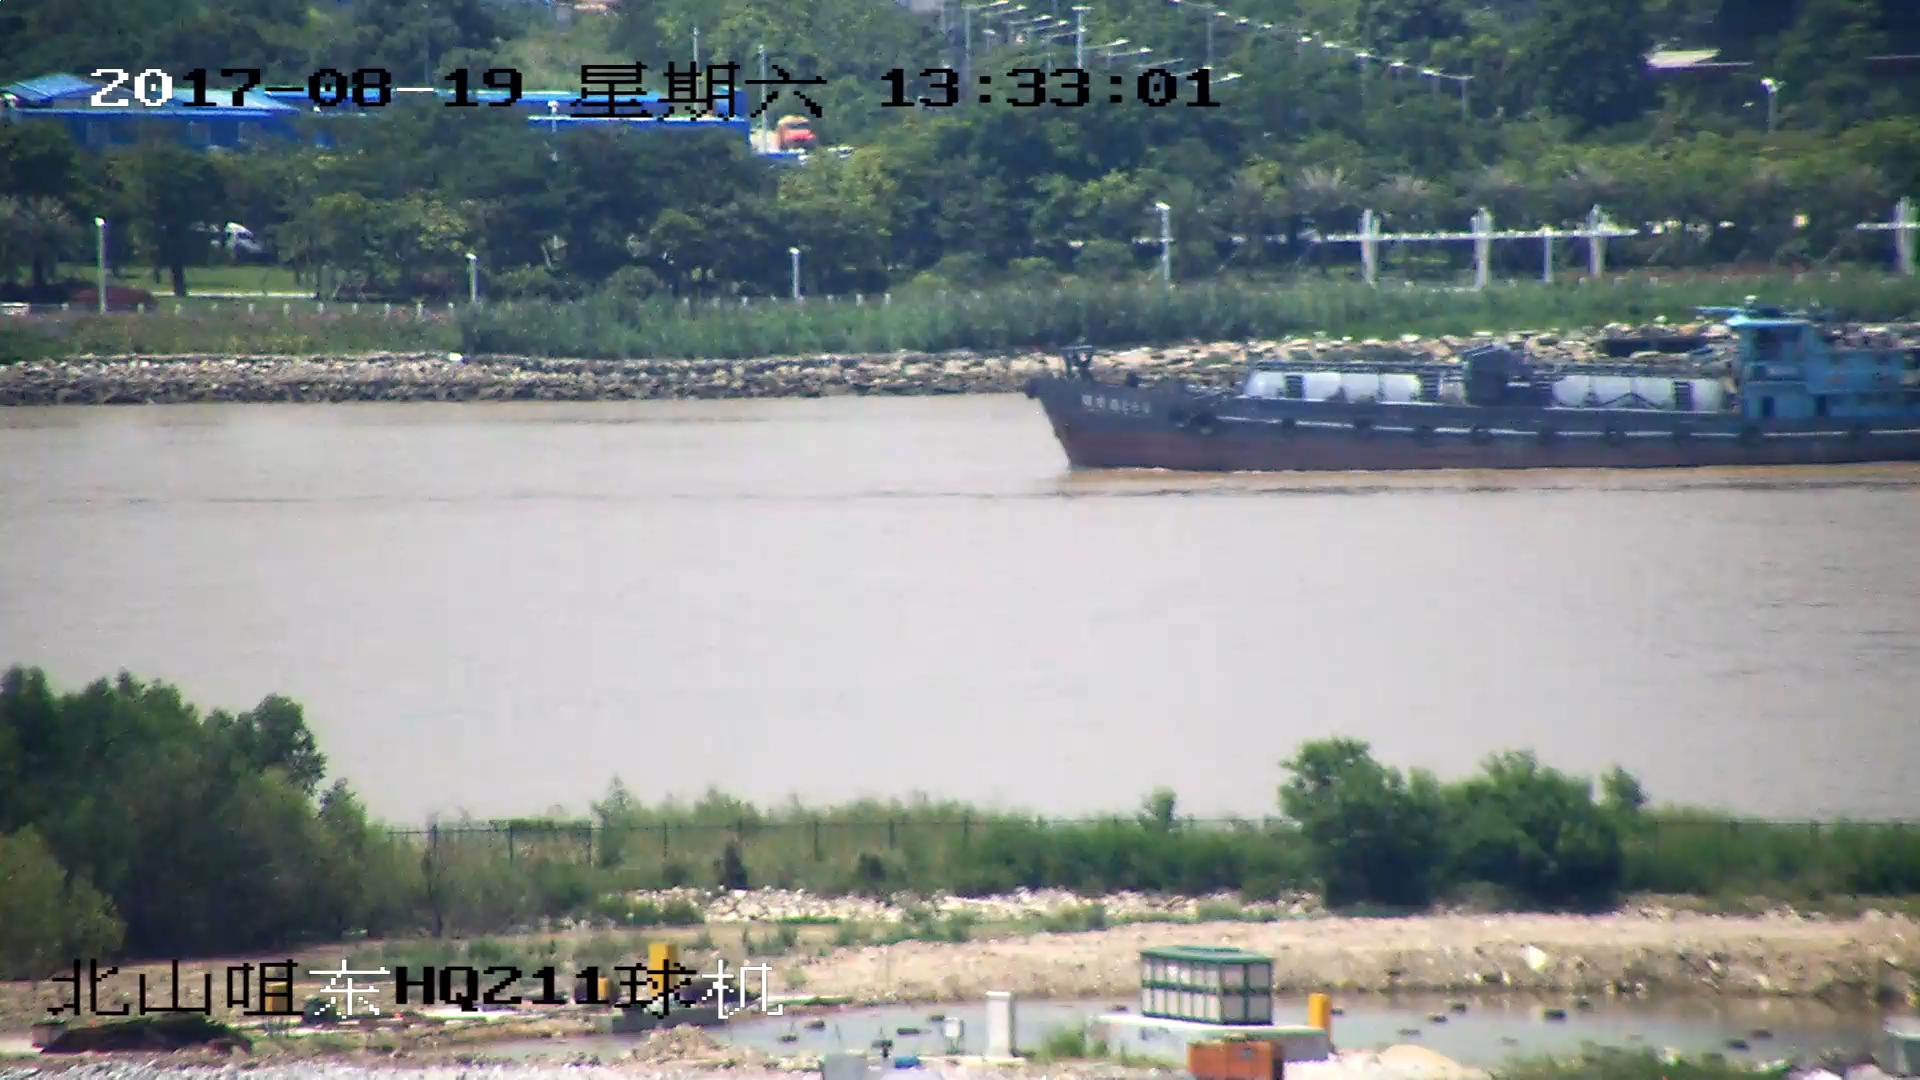bulk cargo carrier: (1029, 306, 1920, 473)
